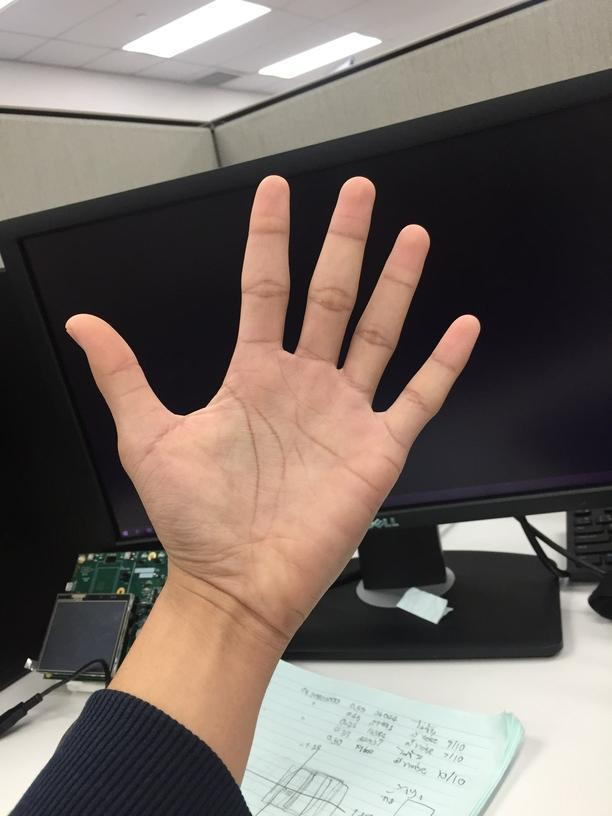hand: (62, 169, 482, 638)
